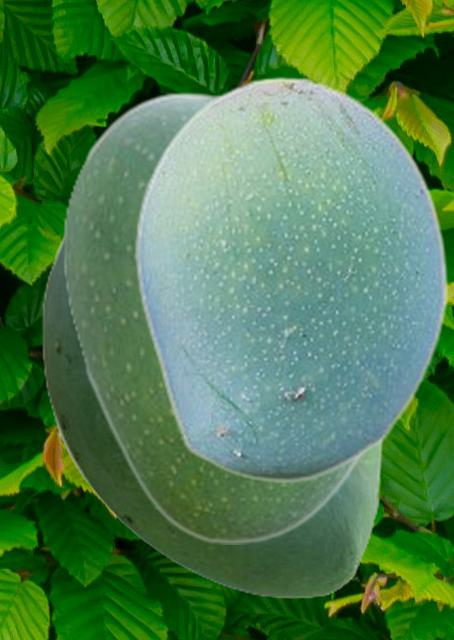green_mango: (62, 91, 366, 543), (133, 75, 448, 483), (41, 230, 386, 598)
